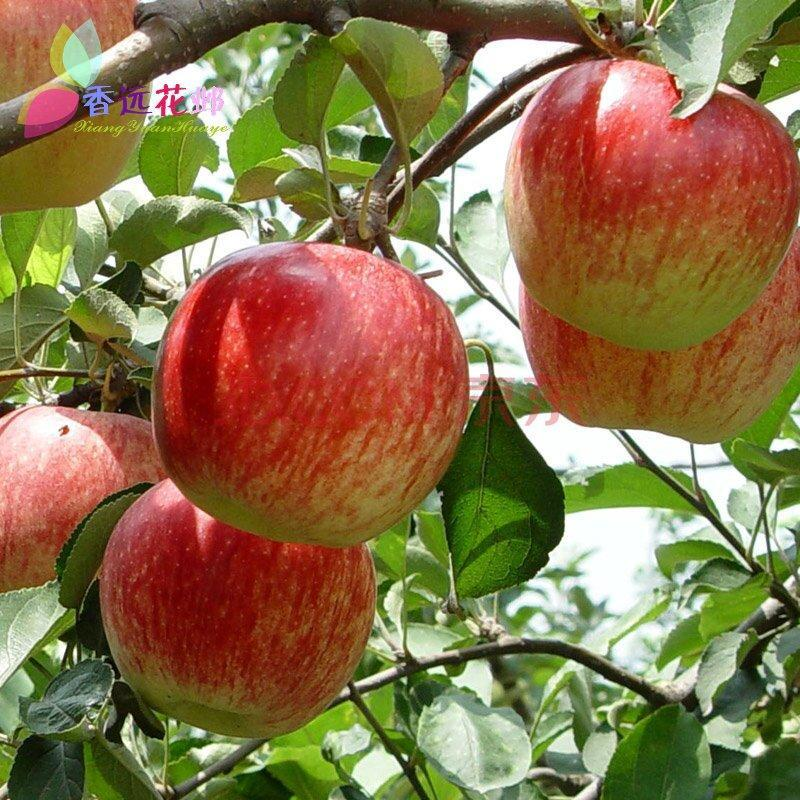apple: (155, 243, 470, 551), (497, 58, 800, 355), (103, 478, 379, 738), (515, 225, 800, 442), (1, 401, 163, 599)
